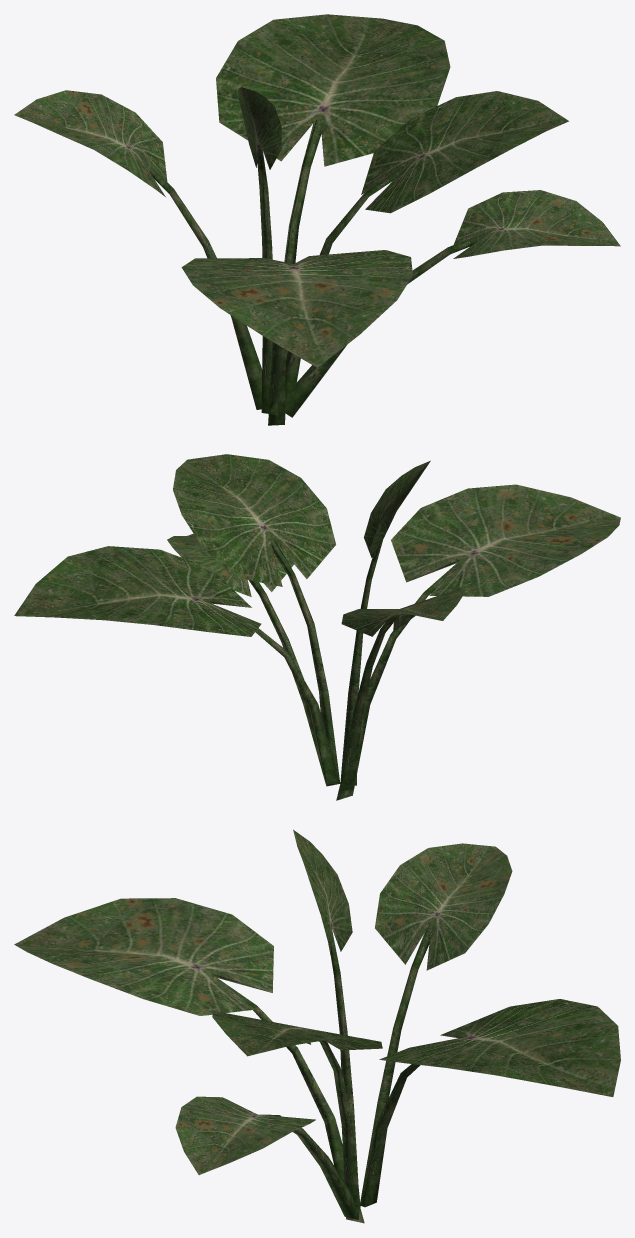
Rendered from leaf_giantpalm_lrg_l0.fbx.
The picture shows the model from 3 angles, top to bottom: view 1: azimuth 30°, elevation 25°; view 2: azimuth 150°, elevation 25°; view 3: azimuth 270°, elevation 25°; orthographic projection. The views are drawn at different scales.
Visible parts, largest first — view 1: mesh_node; view 2: mesh_node; view 3: mesh_node.
Part boxes in pixels (x1,y1,x2,y2): mesh_node: (14, 14, 620, 425); mesh_node: (14, 454, 620, 800); mesh_node: (14, 829, 620, 1223).
Bounding box in the file's own units: 4.38 × 3.53 × 5.38.
